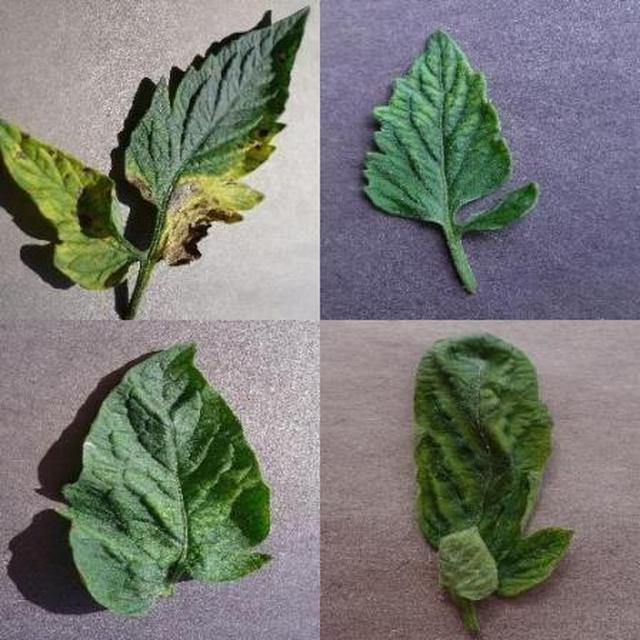Early Blight Leaf: (233, 186, 640, 640)
